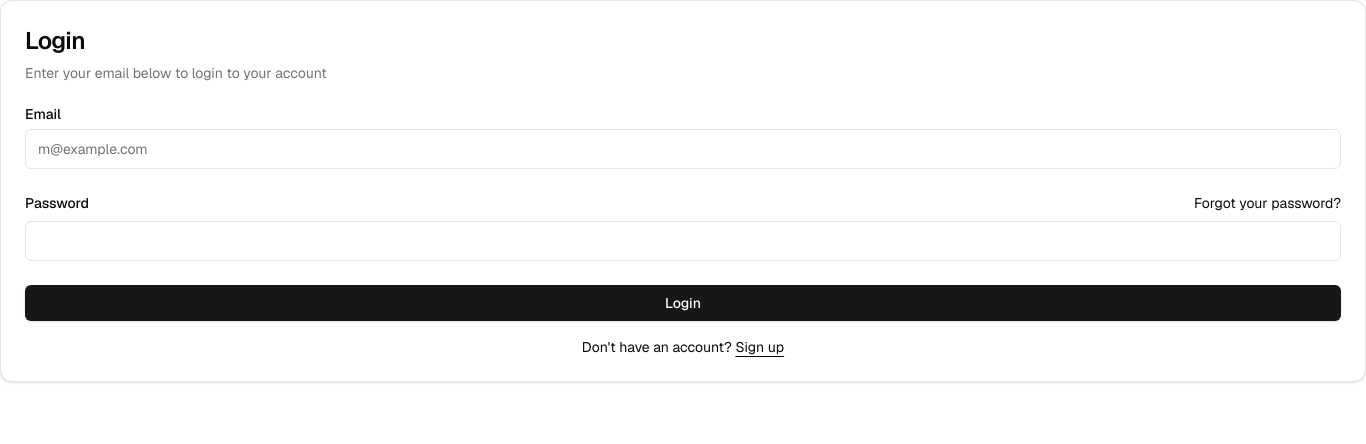
Test: LoginForm › shows error message when login fails
Type "test@example.com" into the field labelled "Email". click: (683, 149)
box: [25, 129, 1341, 169]
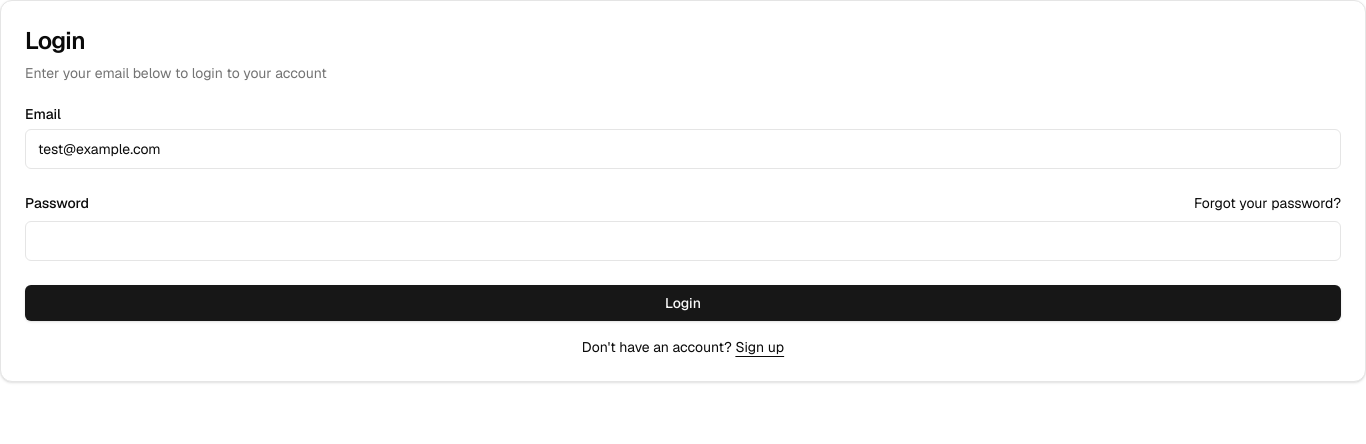
Type "wrongpassword" into the password field labelled "Password". click: (683, 241)
box: [25, 221, 1341, 261]
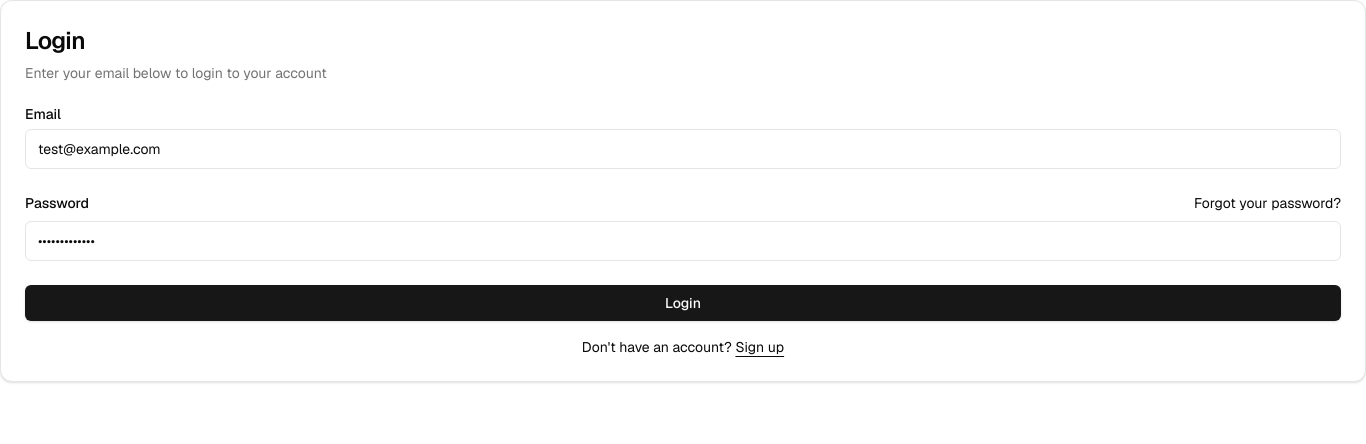
Click the button "Login". click: (683, 303)
box: [25, 285, 1341, 321]
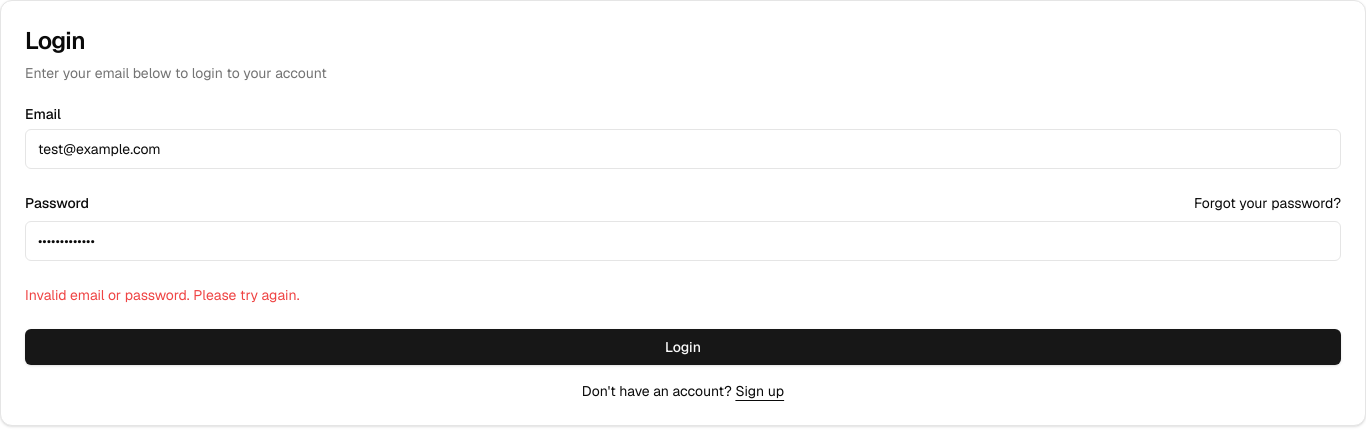
Expected: the text "Invalid email or password. Please try again." is shown, [25, 286, 300, 304]
